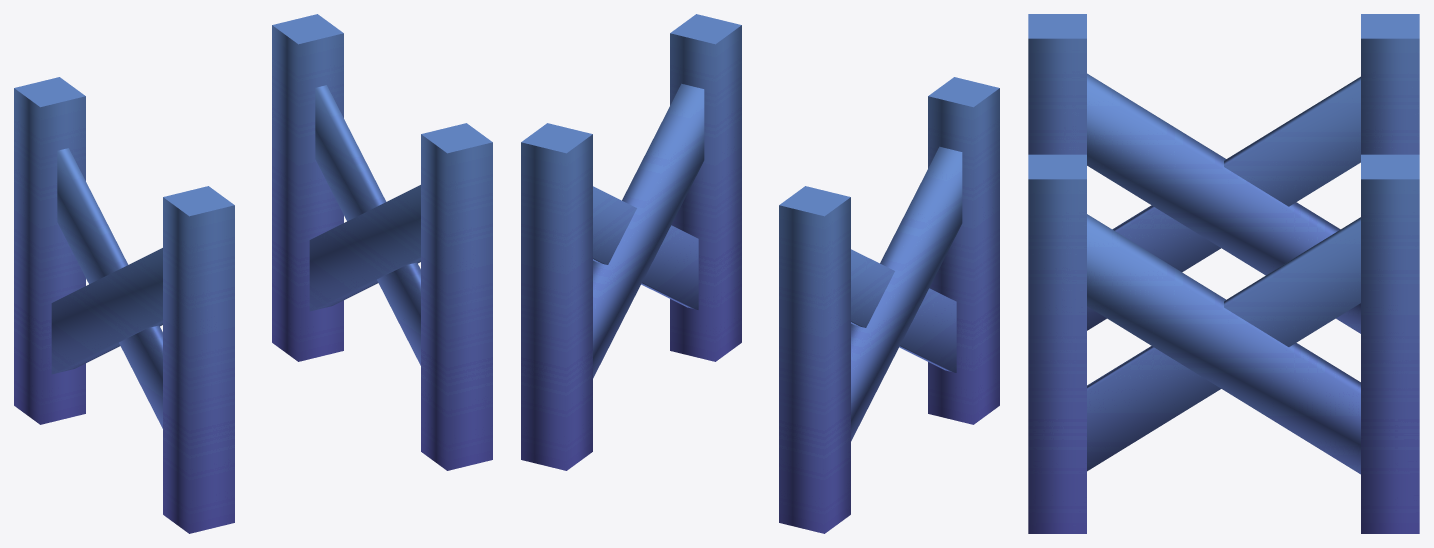
The model's file is supports_diagonal.glb.
3 renders of one model, left to right at view 1: azimuth 30°, elevation 25°; view 2: azimuth 150°, elevation 25°; view 3: azimuth 270°, elevation 25°, orthographic. The views are drawn at different scales.
Visible parts, largest first — view 1: supports-diagonal; view 2: supports-diagonal; view 3: supports-diagonal.
Boxes of the visible parts, x1=… form: supports-diagonal: x1=14, y1=14, x2=492, y2=533; supports-diagonal: x1=521, y1=14, x2=999, y2=533; supports-diagonal: x1=1028, y1=14, x2=1419, y2=533.
Size of the model in its own units: 1 by 1 by 1.
1 material, 1 textured.
